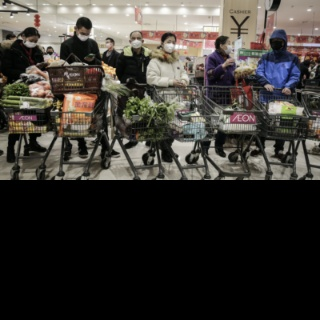with_mask: (23, 37, 40, 48), (76, 31, 91, 43), (164, 39, 176, 54), (130, 36, 142, 50), (270, 37, 282, 51), (224, 40, 232, 55), (104, 40, 112, 49), (47, 48, 53, 56), (310, 64, 315, 68), (185, 59, 188, 63), (315, 63, 318, 67)
